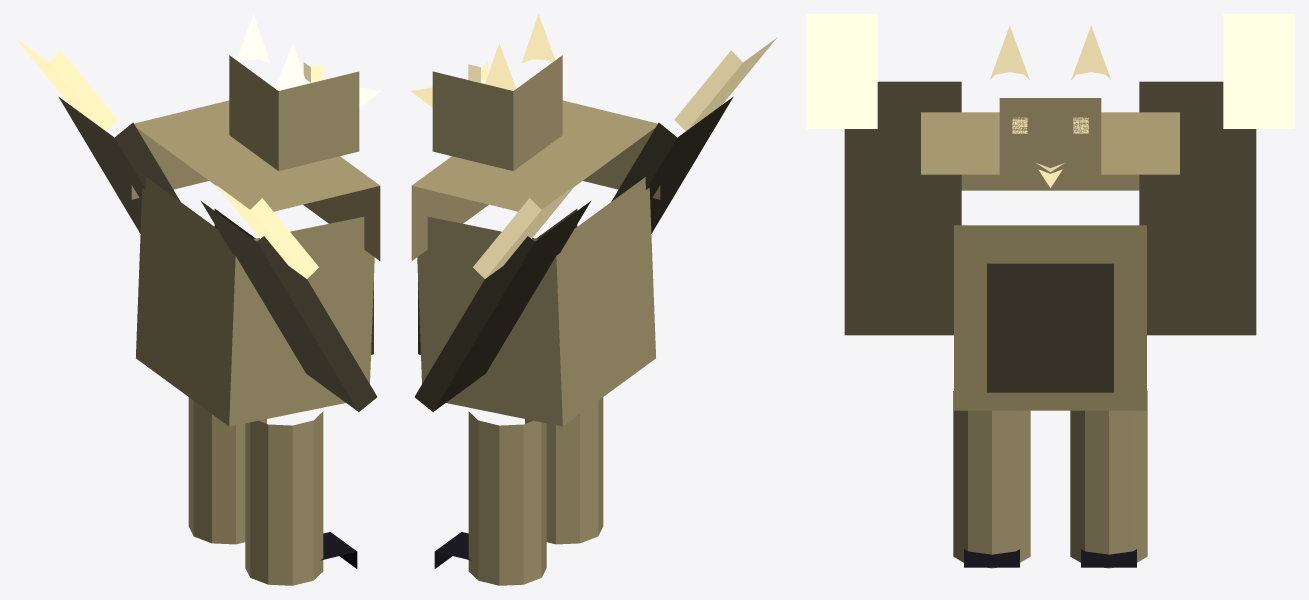
File: owlbear.glb
3 views of the same model, side by side, from view 1: azimuth 30°, elevation 25°; view 2: azimuth 150°, elevation 25°; view 3: azimuth 270°, elevation 25° (orthographic). The views are drawn at different scales.
Parts seen in each view (by area): view 1: owlbear-torso, owlbear-shoulders, owlbear-leg-l, owlbear-head, owlbear-wing-l, owlbear-leg-r, owlbear-wing-r, owlbear-wingtip-r, owlbear-wingtip-l, owlbear-ear-tuft-r, owlbear-ear-tuft-l, owlbear-talon-l; view 2: owlbear-torso, owlbear-shoulders, owlbear-leg-r, owlbear-head, owlbear-wing-r, owlbear-leg-l, owlbear-wing-l, owlbear-wingtip-l, owlbear-wingtip-r, owlbear-ear-tuft-l, owlbear-ear-tuft-r, owlbear-talon-r; view 3: owlbear-wing-l, owlbear-wing-r, owlbear-torso, owlbear-chest-plume, owlbear-shoulders, owlbear-leg-l, owlbear-leg-r, owlbear-head, owlbear-wingtip-l, owlbear-wingtip-r, owlbear-ear-tuft-l, owlbear-ear-tuft-r (+2 smaller).
Part boxes in pixels (x1,y1,x2,y2): owlbear-torso: (136, 177, 374, 426); owlbear-shoulders: (131, 100, 380, 260); owlbear-leg-l: (245, 411, 323, 585); owlbear-head: (229, 55, 359, 170); owlbear-wing-l: (201, 201, 377, 411); owlbear-leg-r: (188, 397, 266, 544); owlbear-wing-r: (58, 96, 180, 233); owlbear-wingtip-r: (15, 38, 117, 130); owlbear-wingtip-l: (216, 185, 318, 278); owlbear-ear-tuft-r: (236, 14, 270, 62); owlbear-ear-tuft-l: (276, 43, 306, 90); owlbear-talon-l: (321, 532, 357, 568); owlbear-torso: (417, 177, 655, 426); owlbear-shoulders: (411, 100, 660, 260); owlbear-leg-r: (468, 411, 546, 585); owlbear-head: (432, 55, 562, 170); owlbear-wing-r: (414, 201, 590, 411); owlbear-leg-l: (525, 397, 603, 544); owlbear-wing-l: (611, 96, 733, 233); owlbear-wingtip-l: (674, 38, 776, 130); owlbear-wingtip-r: (473, 185, 575, 278); owlbear-ear-tuft-l: (521, 14, 555, 62); owlbear-ear-tuft-r: (485, 43, 515, 90); owlbear-talon-r: (434, 532, 470, 568); owlbear-wing-l: (844, 81, 961, 335); owlbear-wing-r: (1139, 81, 1256, 335); owlbear-torso: (954, 225, 1146, 410); owlbear-chest-plume: (987, 263, 1113, 392); owlbear-shoulders: (921, 112, 1179, 190); owlbear-leg-l: (953, 391, 1030, 568); owlbear-leg-r: (1070, 391, 1147, 568); owlbear-head: (999, 98, 1101, 180); owlbear-wingtip-l: (806, 14, 877, 128); owlbear-wingtip-r: (1223, 14, 1294, 128); owlbear-ear-tuft-l: (990, 25, 1029, 79); owlbear-ear-tuft-r: (1071, 25, 1110, 79).
Bounding box in the file's own units: 1.17 × 2.34 × 1.92.
